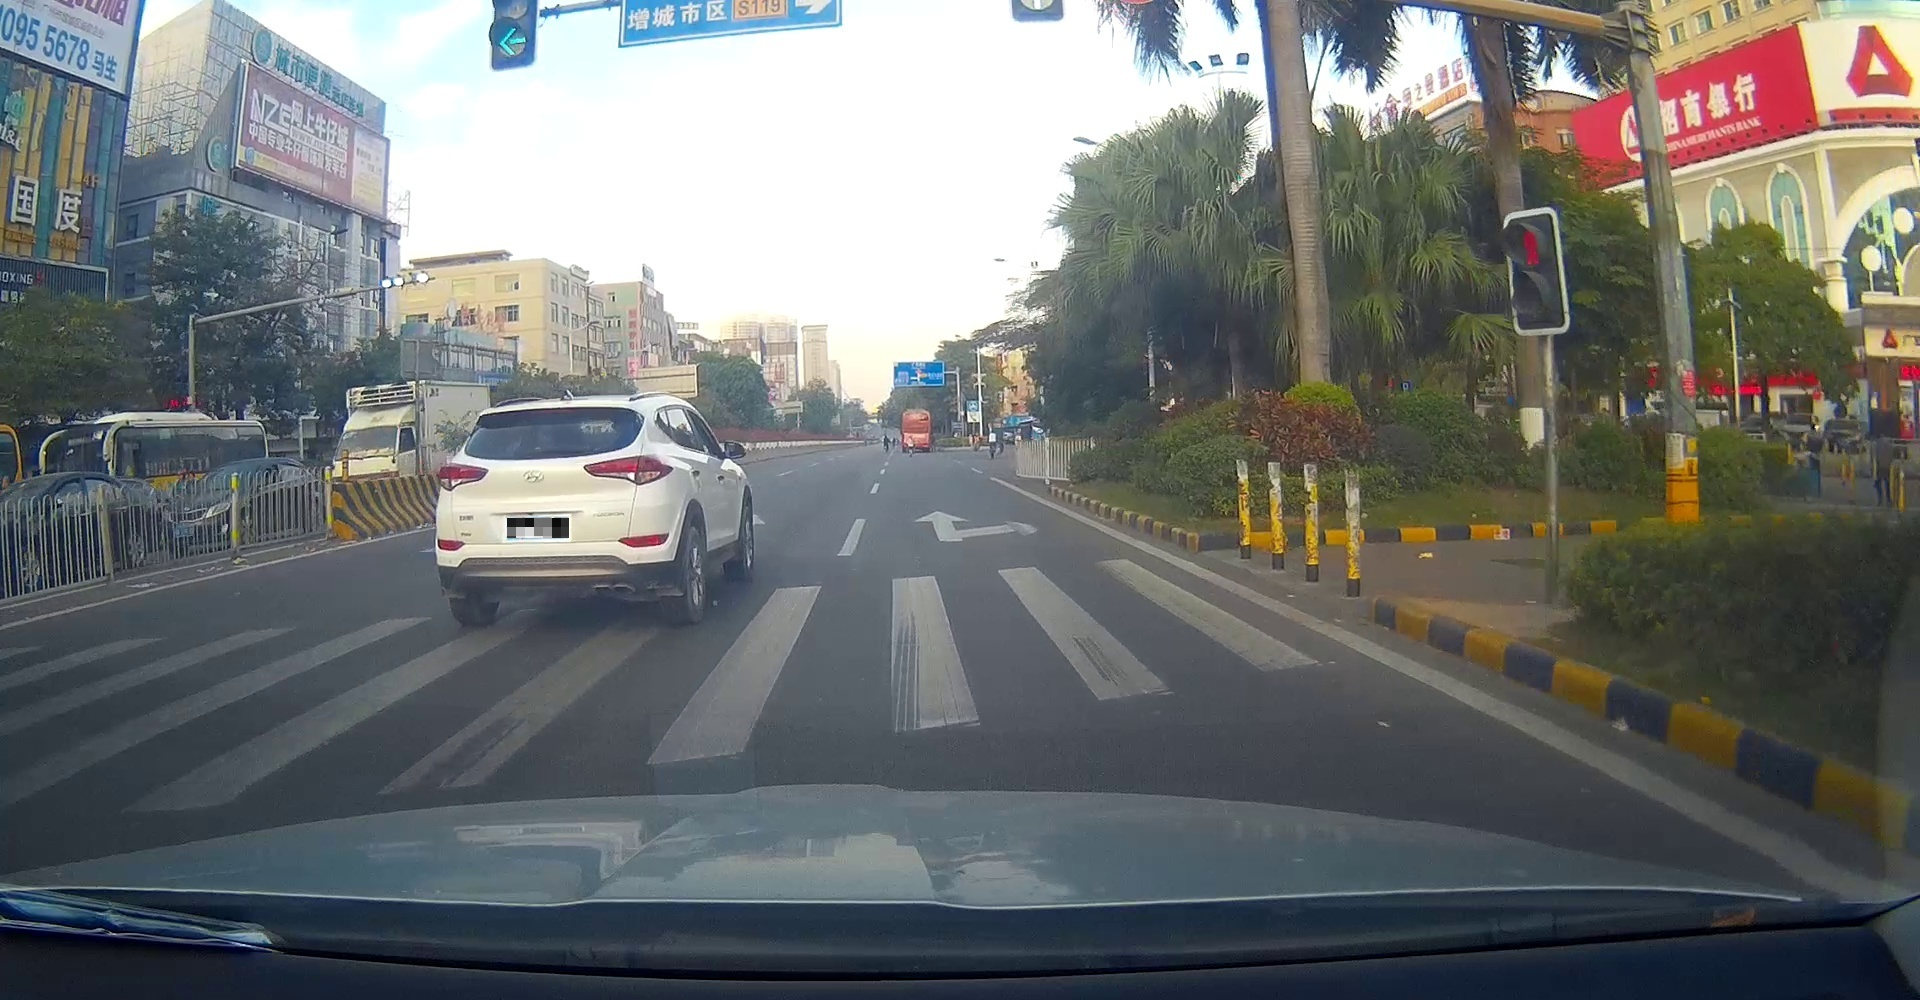L_light: (438, 462, 489, 490)
R_light: (583, 456, 674, 485)
T_light: (536, 409, 577, 414)
day-no: (436, 397, 678, 626)
plate_1: (507, 518, 569, 538)
